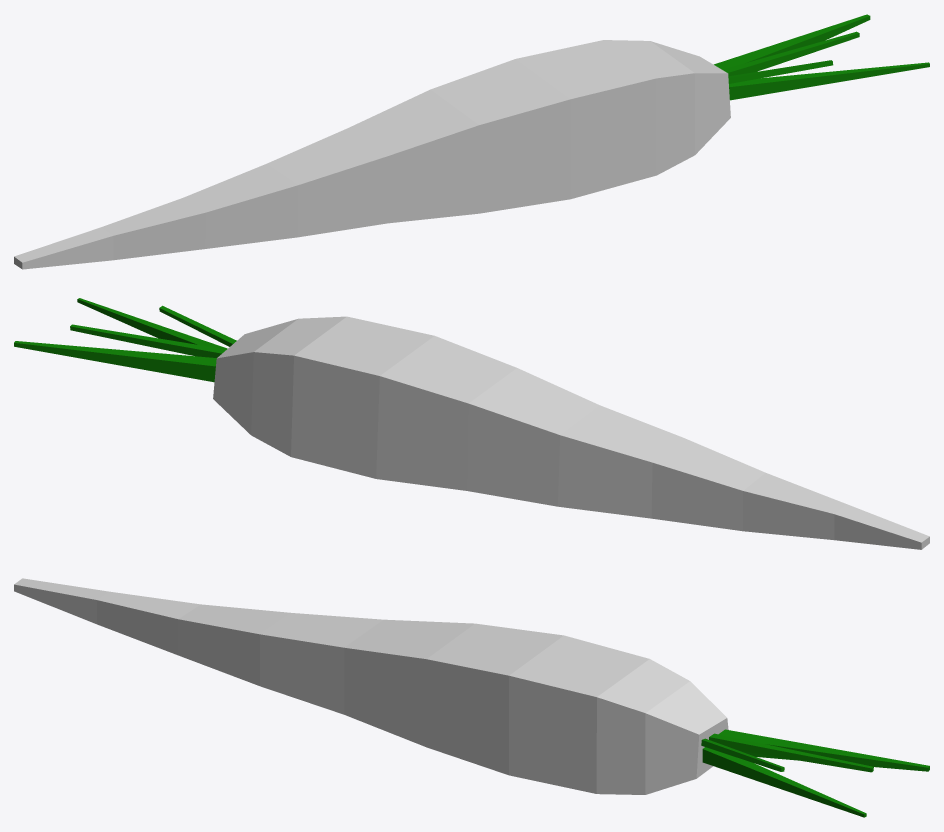
The model's file is raddish.fbx.
The picture shows the model from 3 angles, top to bottom: view 1: azimuth 30°, elevation 25°; view 2: azimuth 150°, elevation 25°; view 3: azimuth 330°, elevation 25°; orthographic projection.
Visible parts, largest first — view 1: Cube; view 2: Cube; view 3: Cube.
Boxes of the visible parts, x1=… form: Cube: x1=14, y1=14, x2=929, y2=269; Cube: x1=14, y1=298, x2=929, y2=549; Cube: x1=14, y1=578, x2=929, y2=817.
Size of the model in its own units: 97.07 by 10.61 by 12.27.
